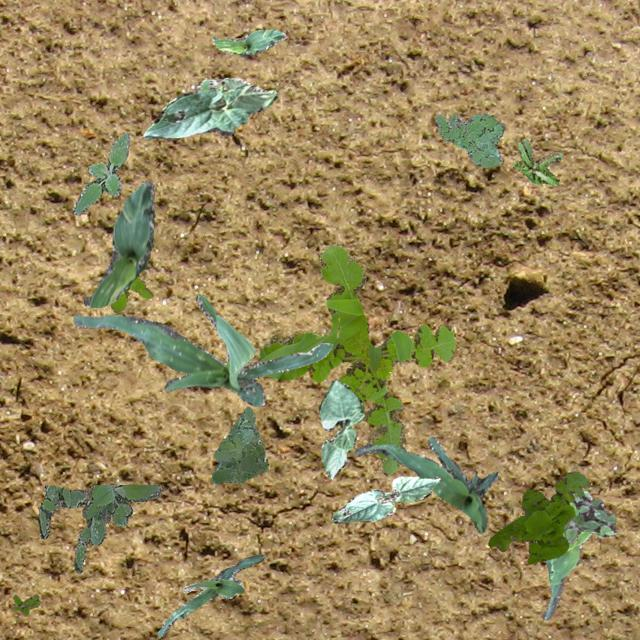crop: (72, 292, 332, 406), (354, 436, 496, 532), (82, 180, 154, 306), (156, 554, 262, 636), (142, 76, 276, 138), (541, 490, 591, 618), (332, 474, 439, 522), (318, 378, 362, 478), (212, 28, 286, 56)
weed: (258, 244, 454, 476), (37, 483, 161, 572), (488, 470, 588, 562), (72, 130, 130, 214), (210, 406, 268, 484), (434, 112, 504, 166), (564, 492, 616, 542), (512, 138, 560, 185), (110, 276, 150, 312), (11, 594, 38, 614)
